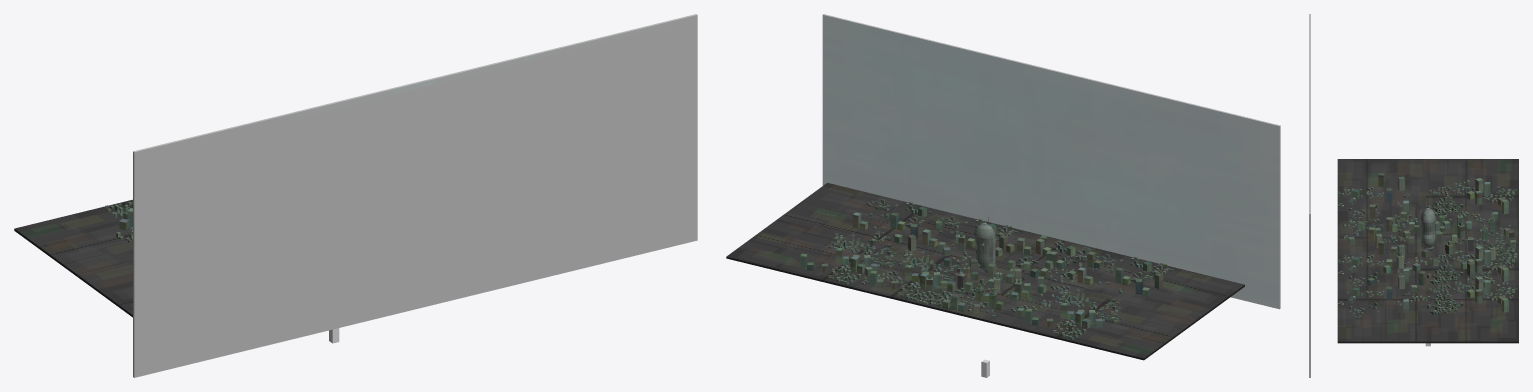
Rendered from A_Whole_Frickin_Cityscape.fbx.
3 renders of one model, left to right at view 1: azimuth 30°, elevation 25°; view 2: azimuth 150°, elevation 25°; view 3: azimuth 270°, elevation 25°, orthographic. The views are drawn at different scales.
Parts seen in each view (by area): view 1: cuboid_476, cuboid; view 2: cuboid_476, cuboid, cylinder; view 3: cuboid, cuboid_476, cylinder.
Boxes of the visible parts, <box> form: cuboid_476: <box>133,14,697,377</box>; cuboid: <box>14,199,132,317</box>; cuboid_476: <box>822,14,1280,309</box>; cuboid: <box>726,183,1244,360</box>; cylinder: <box>974,235,995,272</box>; cuboid: <box>1337,159,1518,343</box>; cuboid_476: <box>1309,14,1310,377</box>; cylinder: <box>1420,219,1435,251</box>.
Size of the model in its own units: 1600 by 862 by 709.
Materials: 4 (4 with a texture image).
